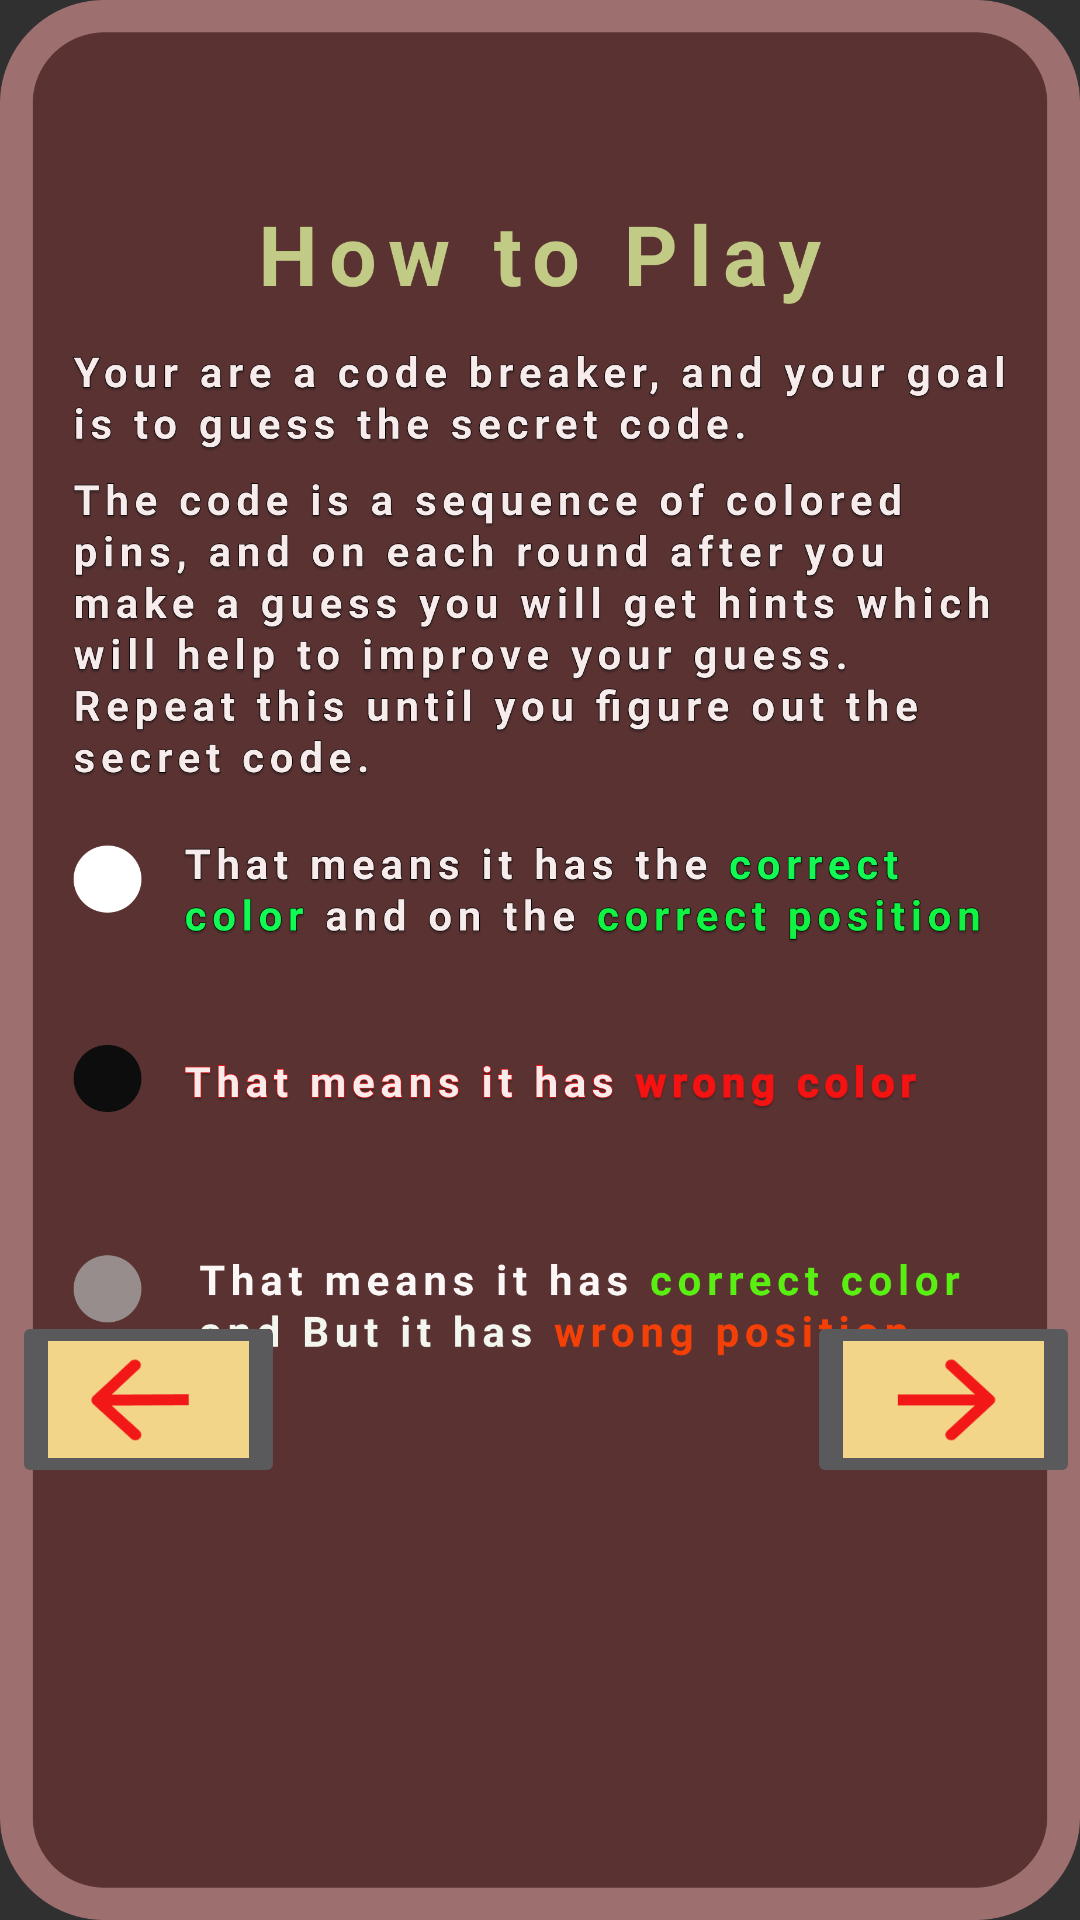

Screen size 1080 × 1920. Icon name, then its box in pixels as (x1, y1, x2, y2):
arrowahead: (807, 1311, 1080, 1488)
arrowback: (12, 1311, 278, 1488)
